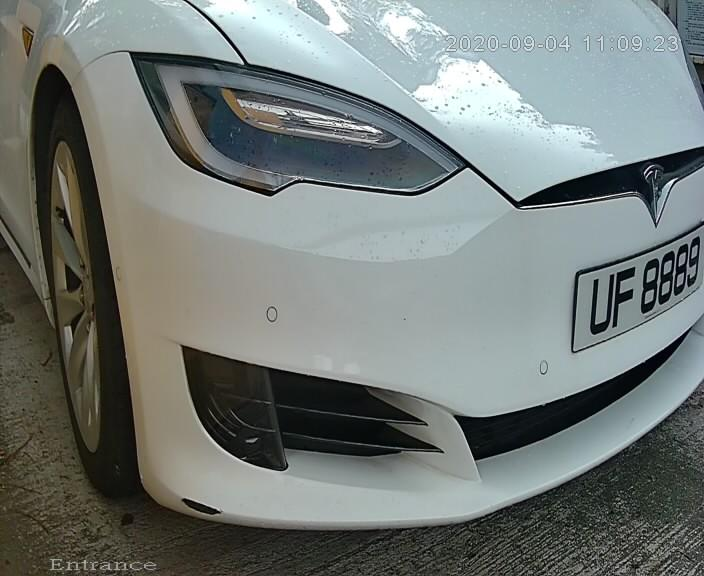License Plate: (557, 207, 704, 371)
